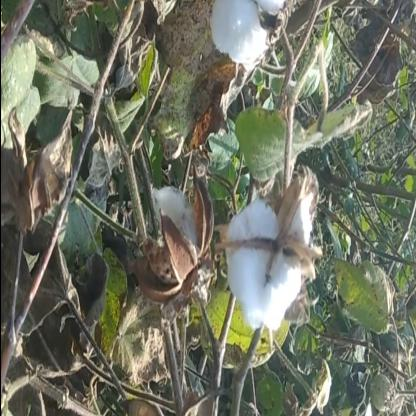cotton_ready: (196, 152, 326, 350)
